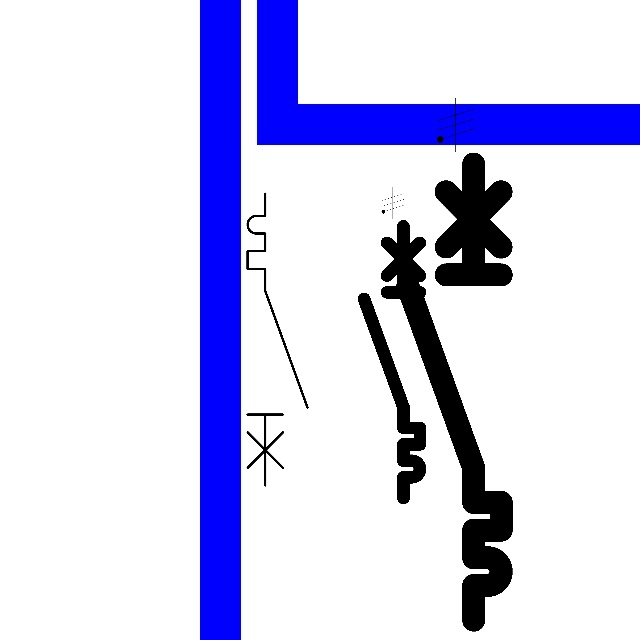interruptor_termomagnetico: (396, 152, 513, 632), (240, 186, 315, 493), (357, 219, 427, 504)
